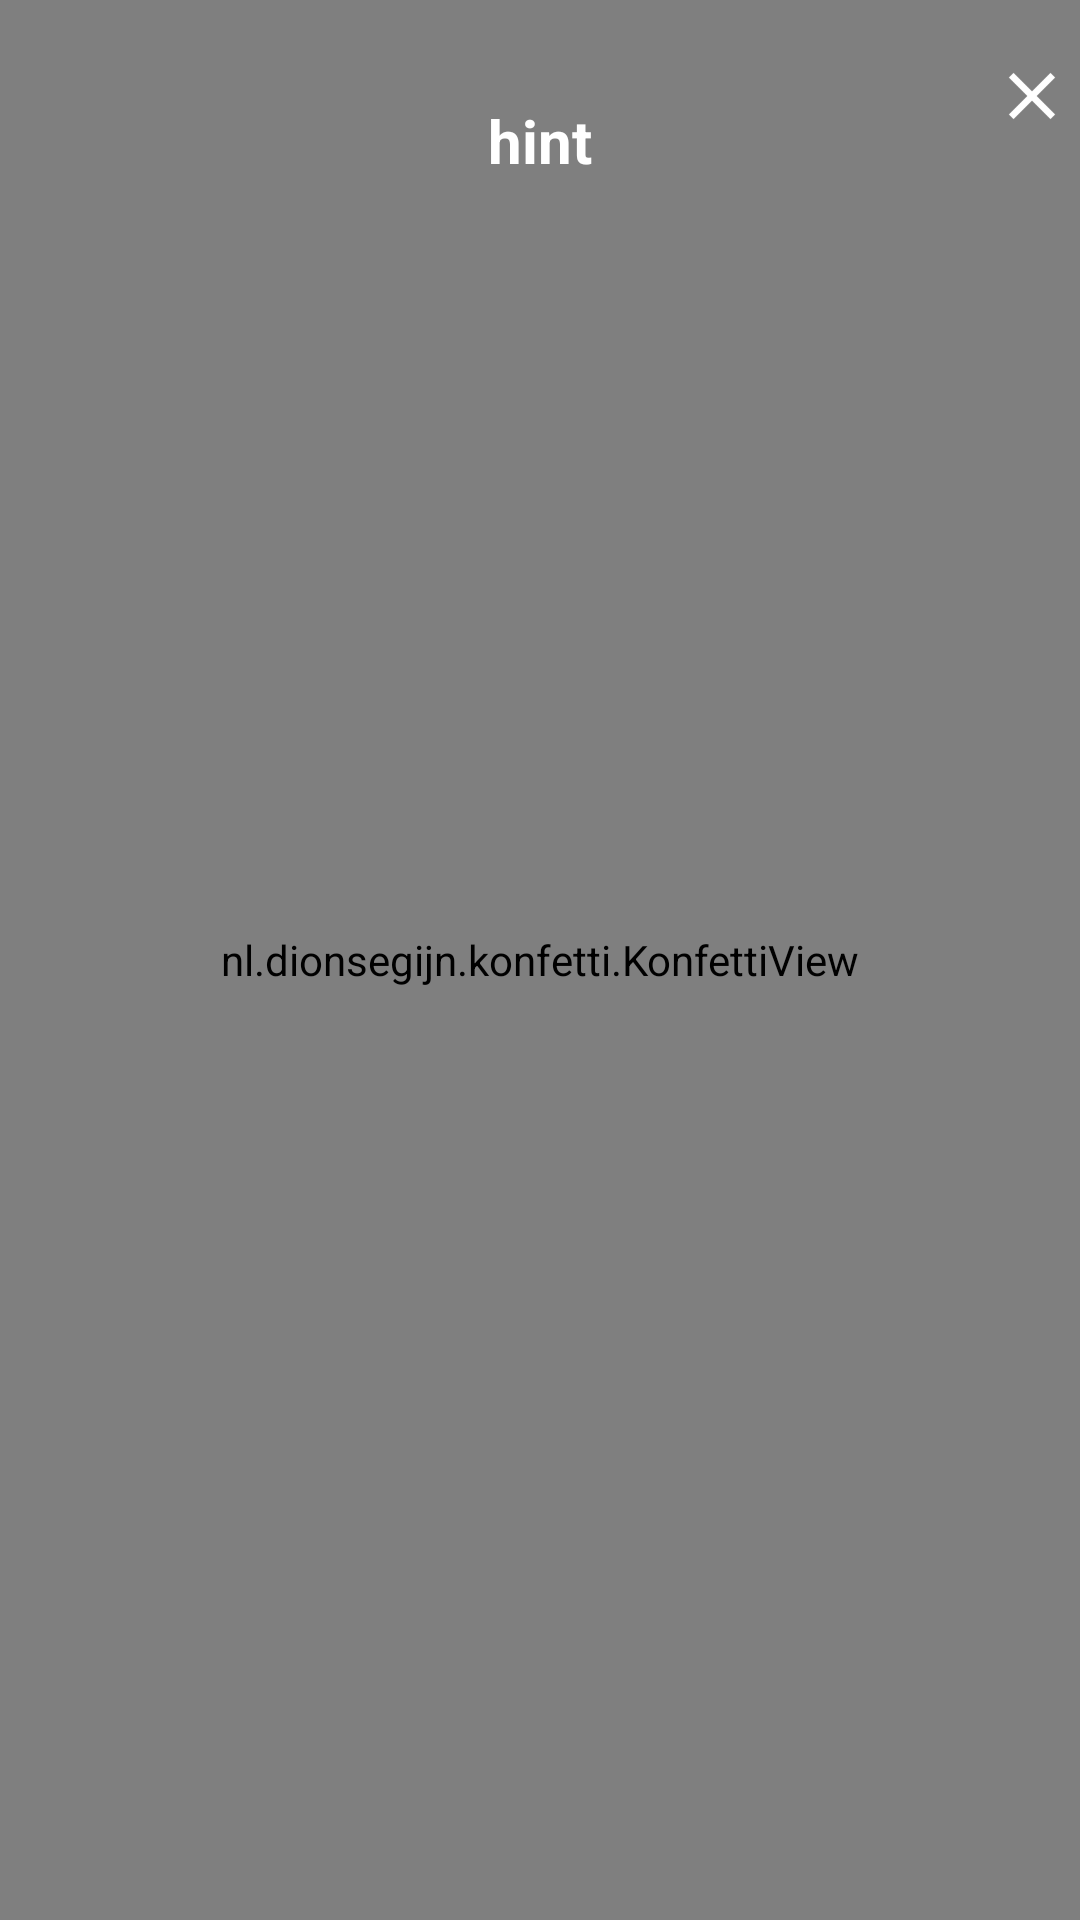

Where icons sit on this 1080px x 1920px app screen, as (x1, y1, x2, y2):
close: (1009, 73, 1055, 119)
